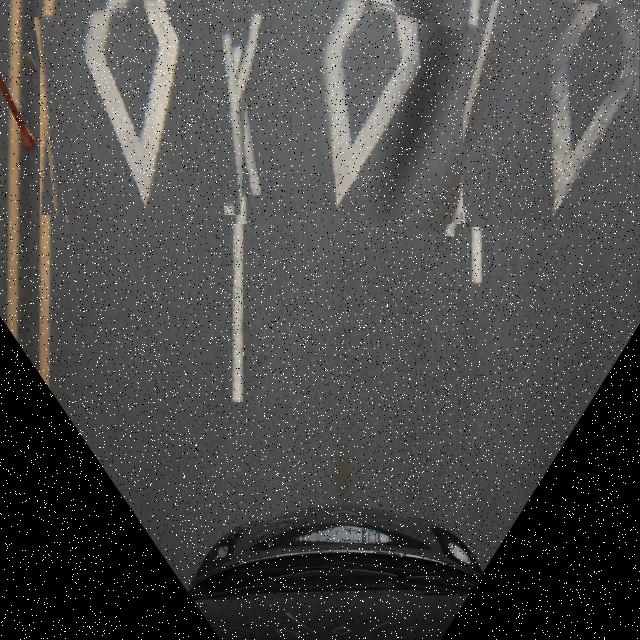diamond: (221, 0, 491, 224), (40, 0, 250, 215), (463, 0, 640, 228)
